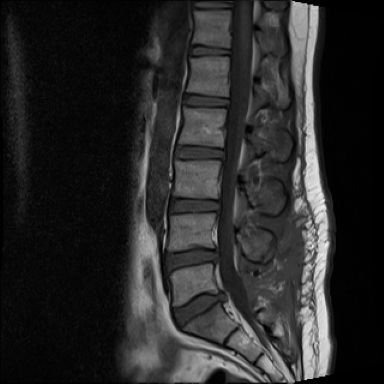Lumbar Disc Bulge (LDB): (161, 274, 236, 336), (156, 229, 231, 279)
Normal IVD: (160, 194, 223, 218), (168, 138, 226, 163), (178, 89, 230, 111), (181, 40, 232, 61), (185, 1, 233, 14)
Spinal Stenosis (SS): (198, 238, 227, 272), (210, 285, 233, 314)
